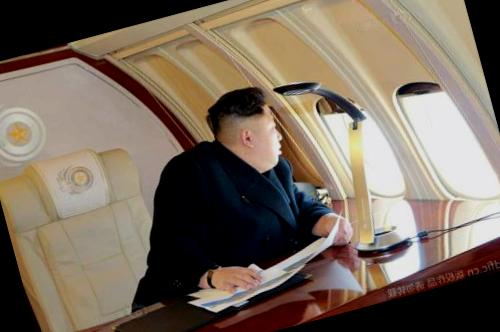no_helmet: (198, 78, 293, 176)
